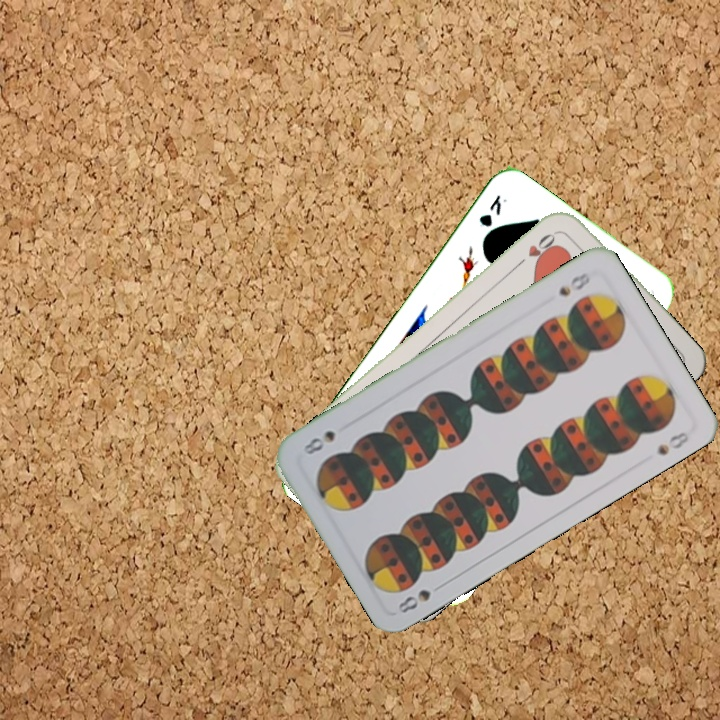GK: (475, 191, 510, 230)
HO: (512, 227, 561, 270)
S8: (393, 578, 448, 617), (554, 268, 593, 299)
